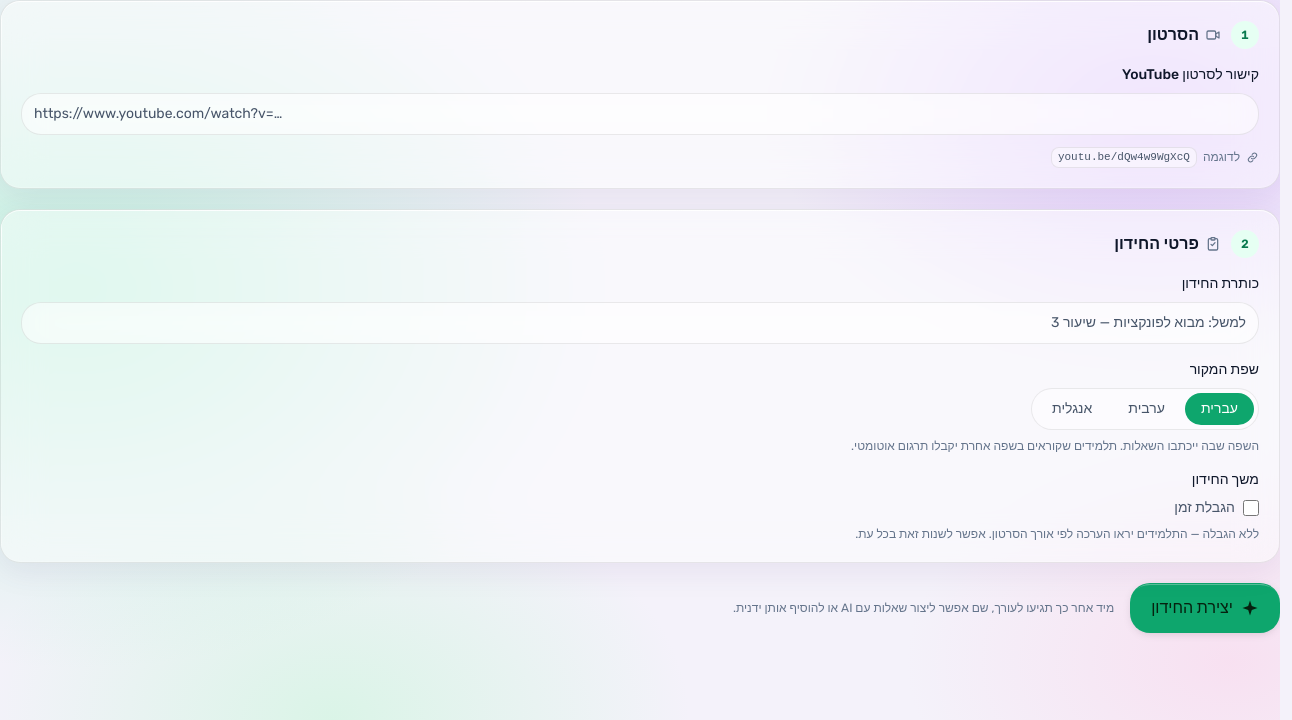
Test: NewQuizForm › offers the time cap as a single opt-in, with no estimate alternative
Click the checkbox labelled "הגבלת זמן": {"x": 1251, "y": 508} [1243,500,1259,516]
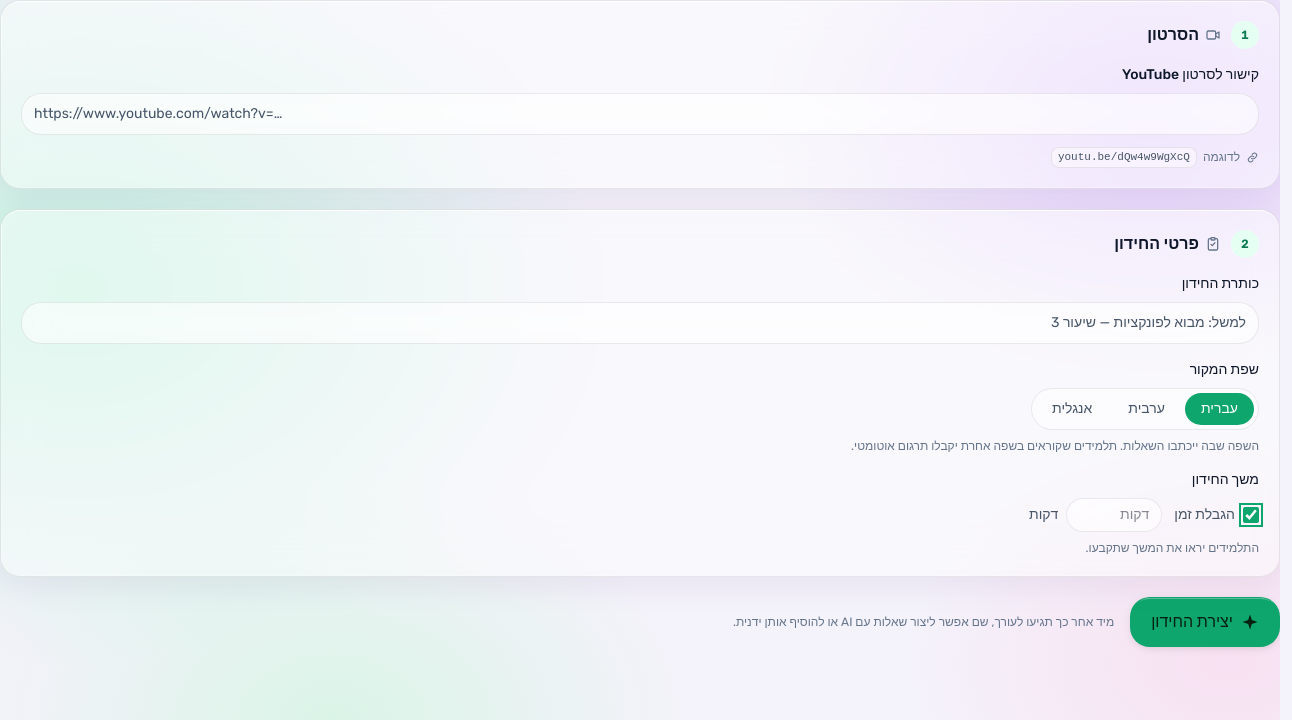
Check: the number field named "משך החידון בדקות" is shown, box [1066,498,1162,532]
